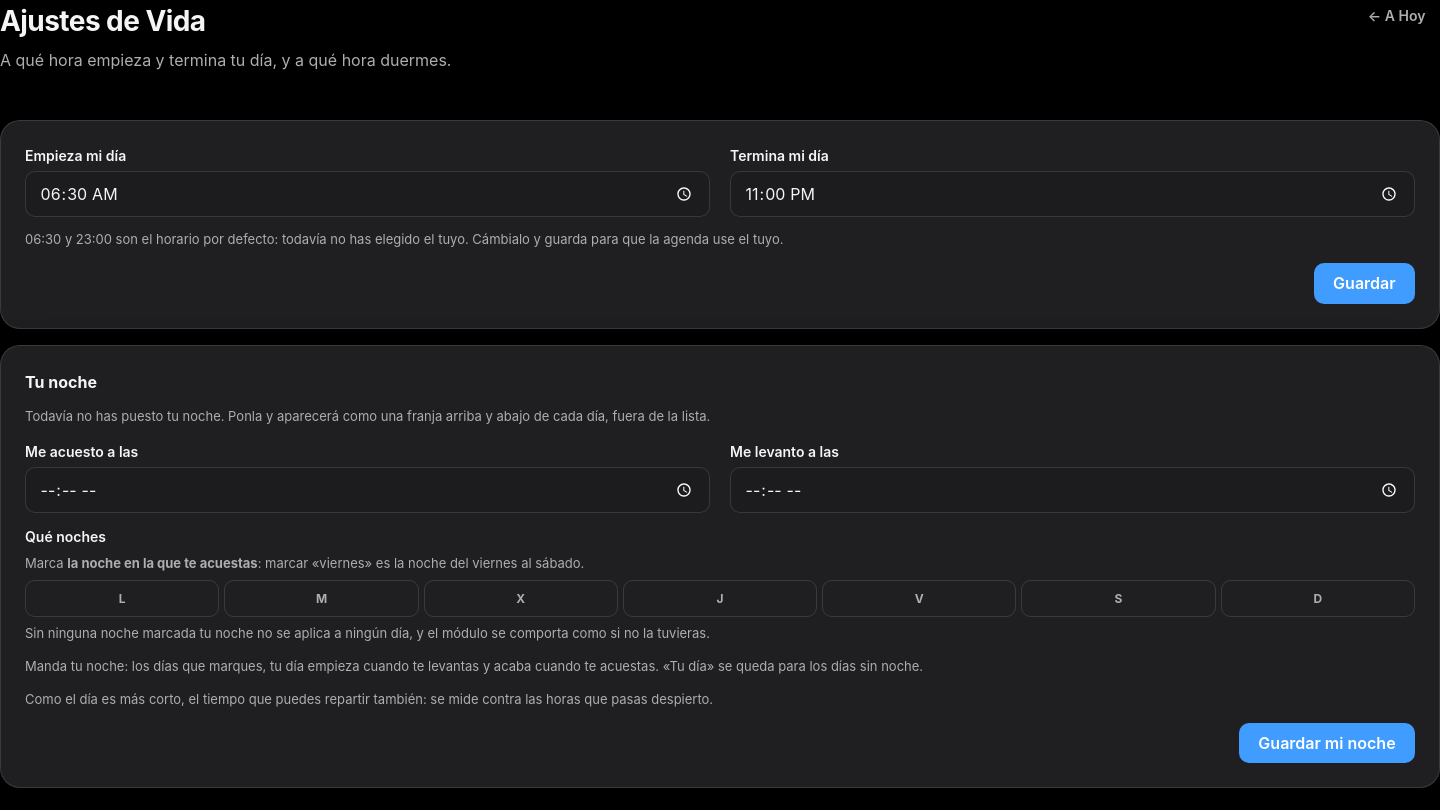
Test: VidaAjustesPage › al guardar bien lo dice, y lo que manda es lo que quedará al volver
Replace the text in the time field labelled "Empieza mi día" with "07:00": (368, 194) 25,171 -> 710,217
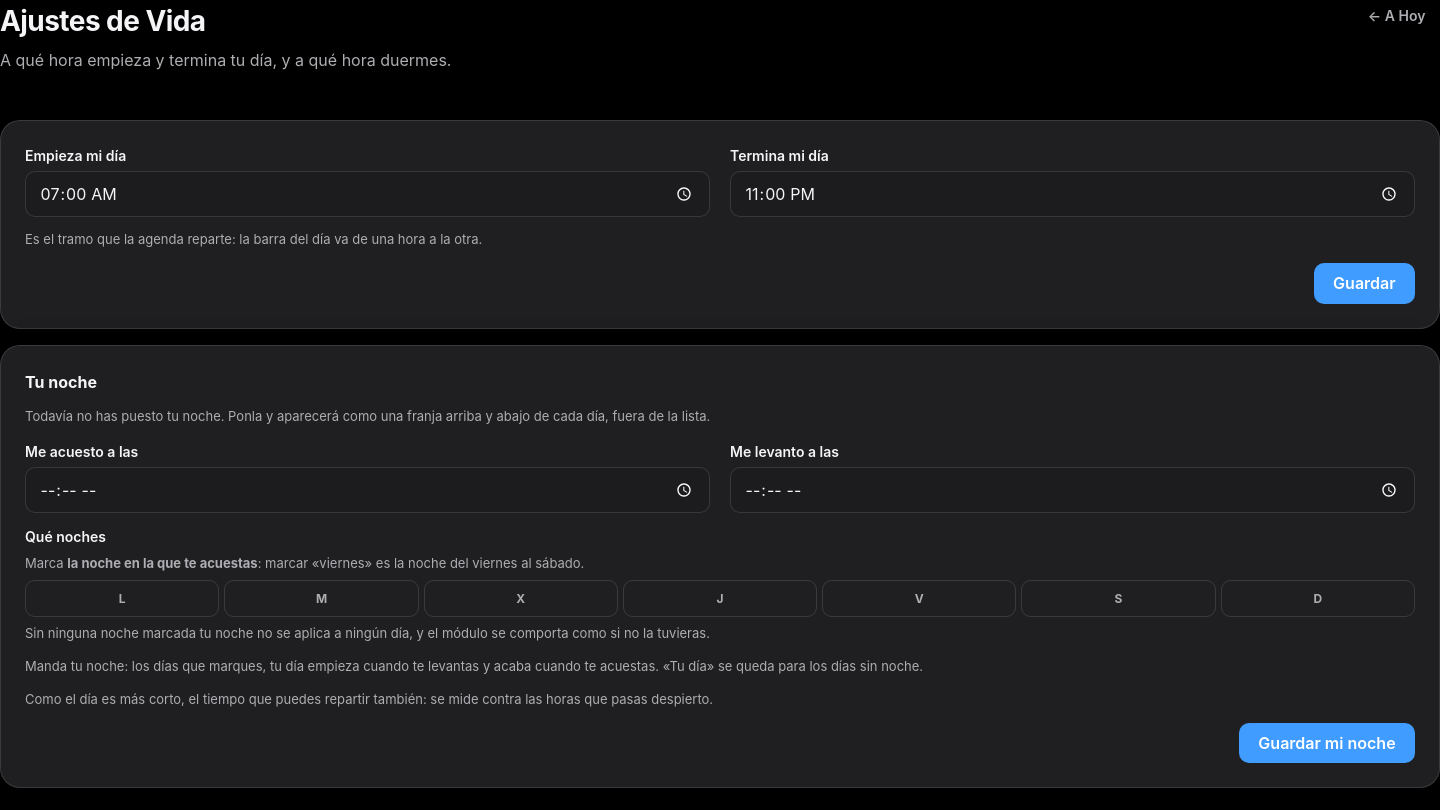
Click the button "Guardar": click(1364, 284) 1314,264 -> 1415,304
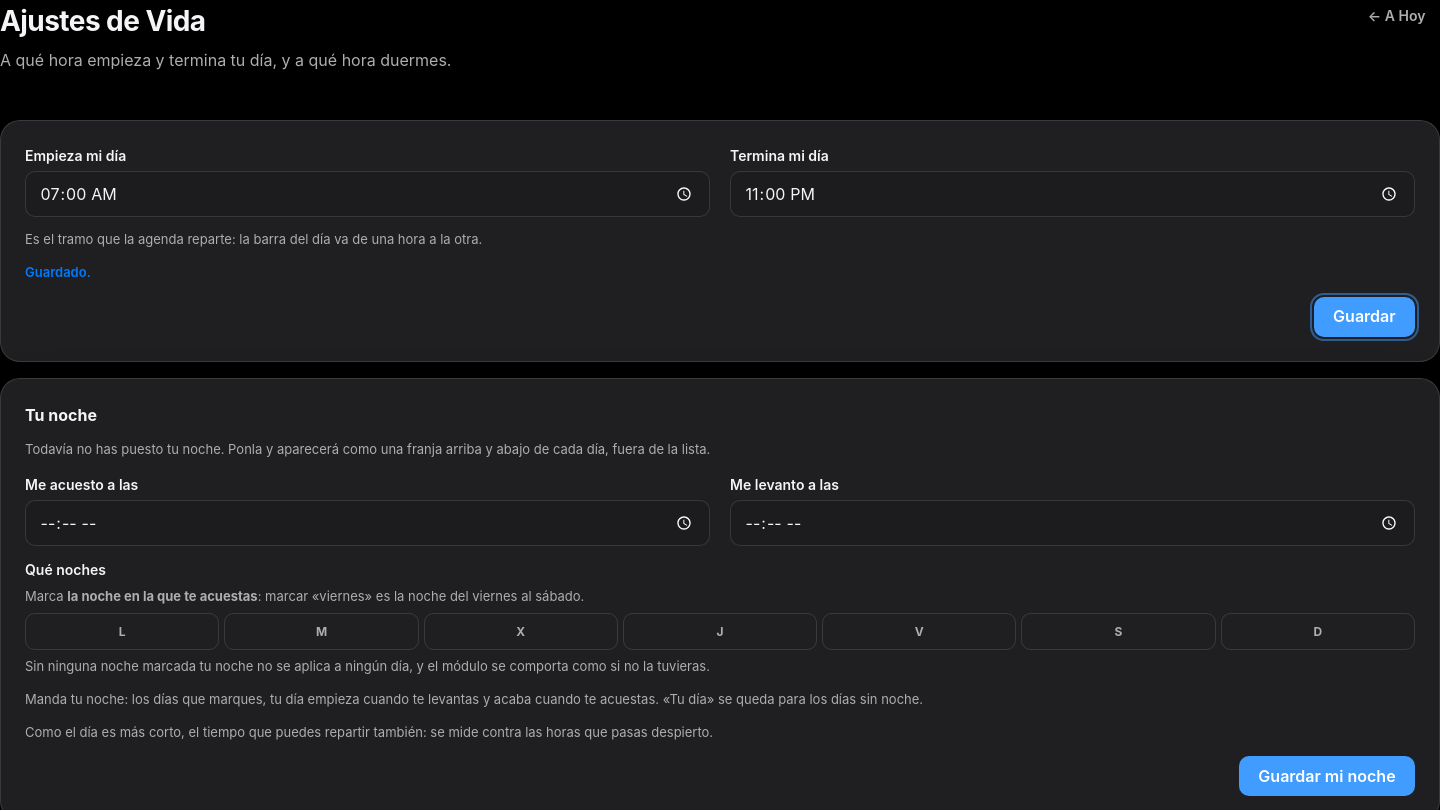
Expected: the message reads "Guardado.", 25,264 -> 91,280
